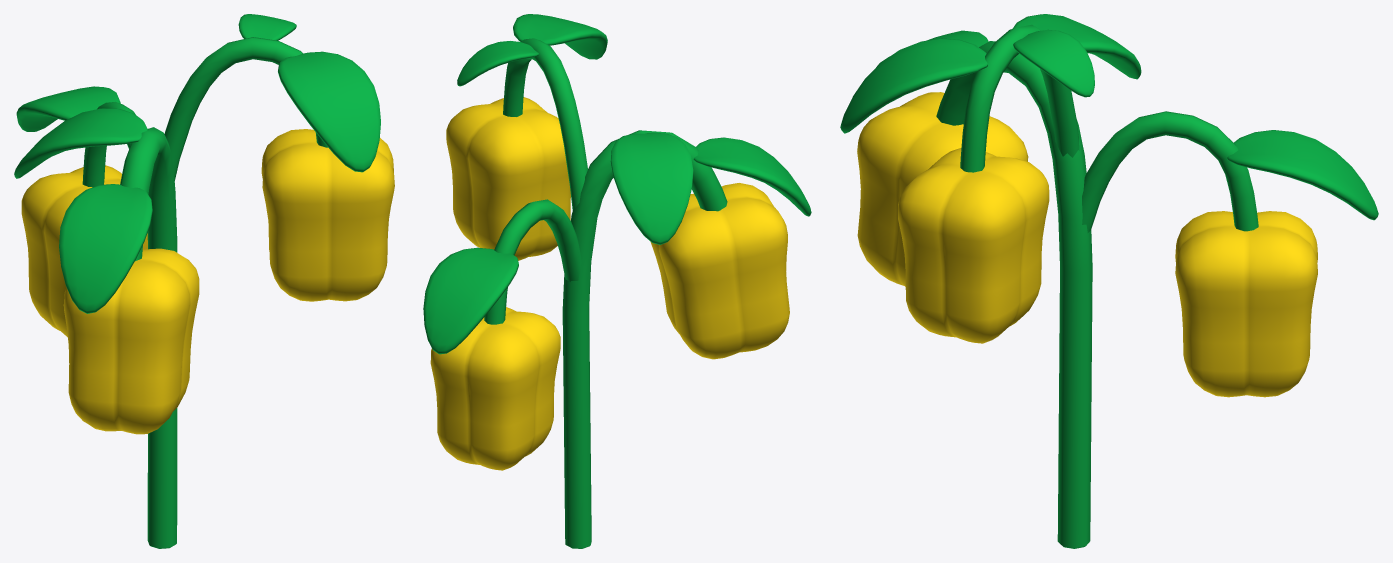
Rendered from Farm_19_Pepper_Bush_2.glb.
3 views of the same model, side by side, from view 1: azimuth 30°, elevation 25°; view 2: azimuth 150°, elevation 25°; view 3: azimuth 270°, elevation 25° (orthographic). The views are drawn at different scales.
Visible parts, largest first — view 1: Farm_19_Pepper_Bush_2; view 2: Farm_19_Pepper_Bush_2; view 3: Farm_19_Pepper_Bush_2.
Part boxes in pixels (bbox=[...]): Farm_19_Pepper_Bush_2: bbox=[14, 14, 394, 548]; Farm_19_Pepper_Bush_2: bbox=[423, 14, 811, 548]; Farm_19_Pepper_Bush_2: bbox=[840, 14, 1378, 548].
Size of the model in its own units: 0.9102 by 1.25 by 1.11.
Materials: 1 (1 with a texture image).
